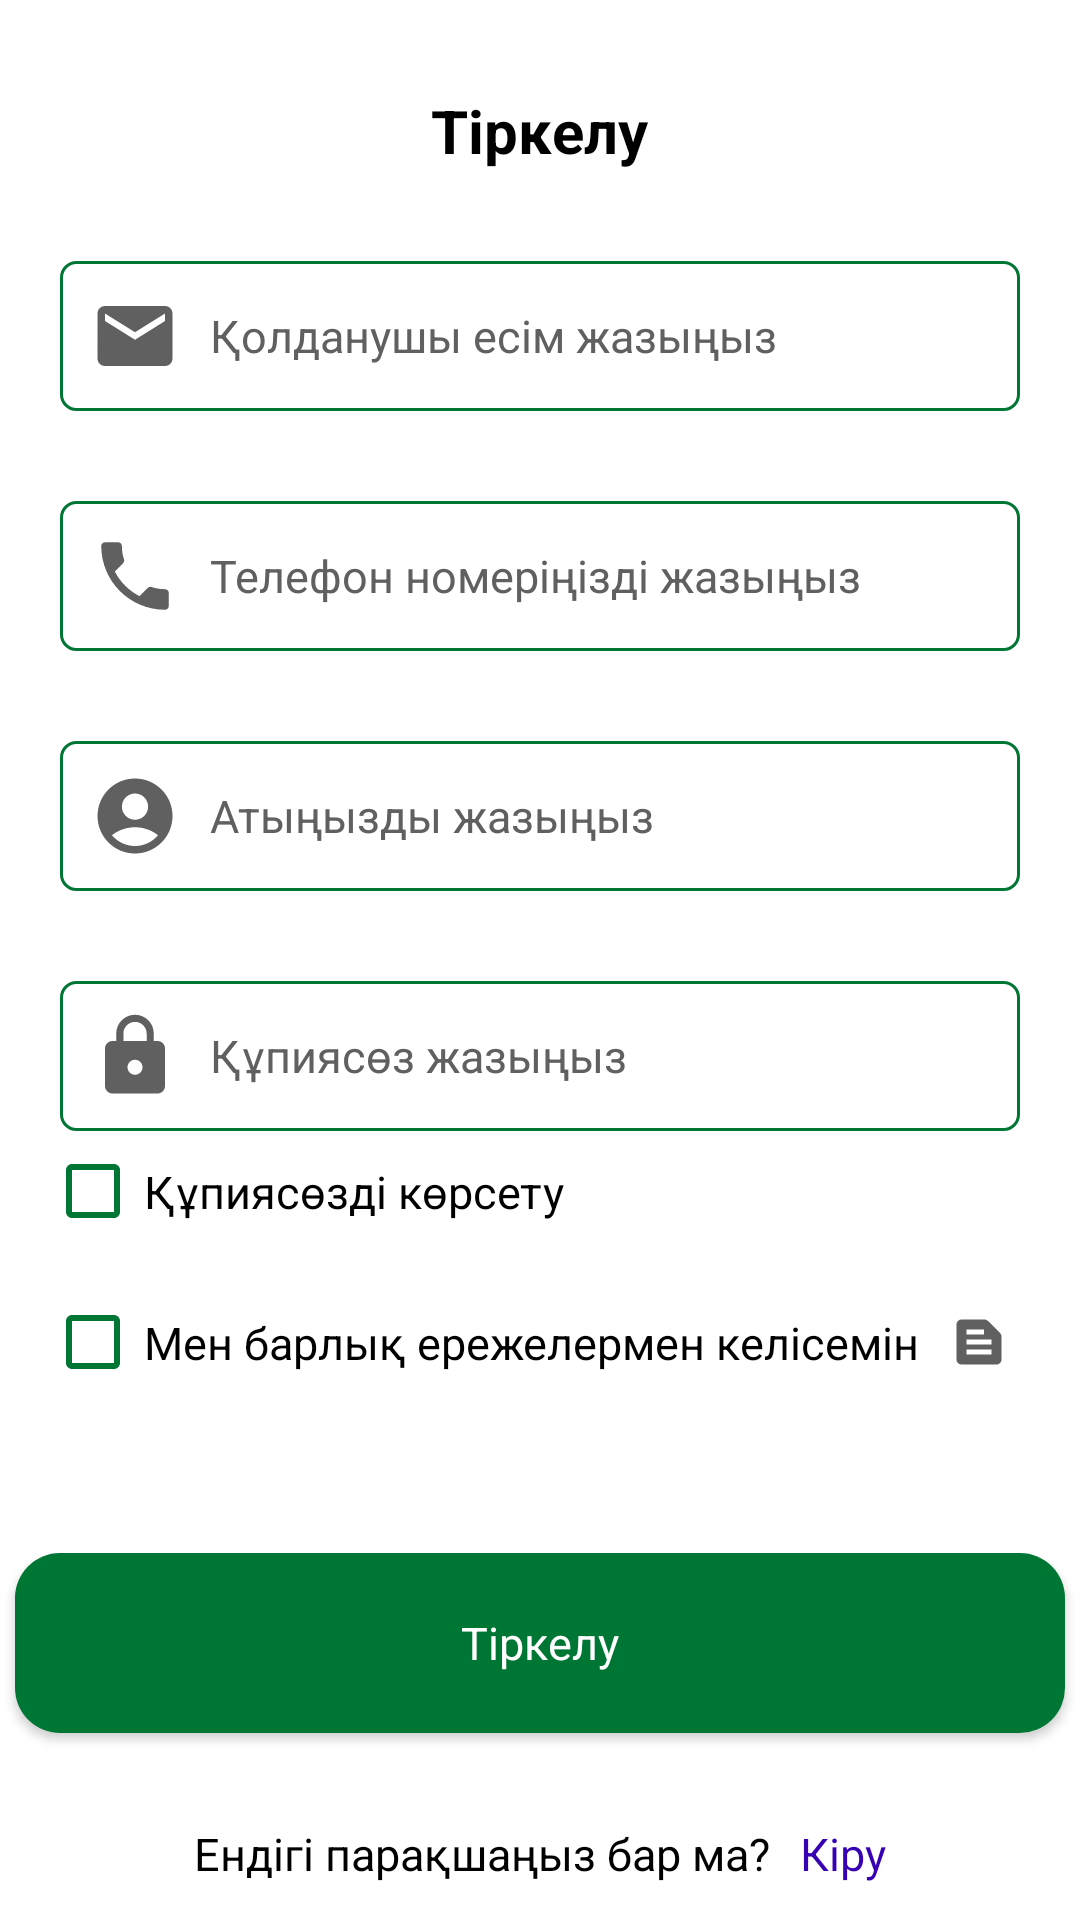

Named icons in this screenshot (1080w x 1920h) and their centers, point (x, y):
document: point (979, 1342)
